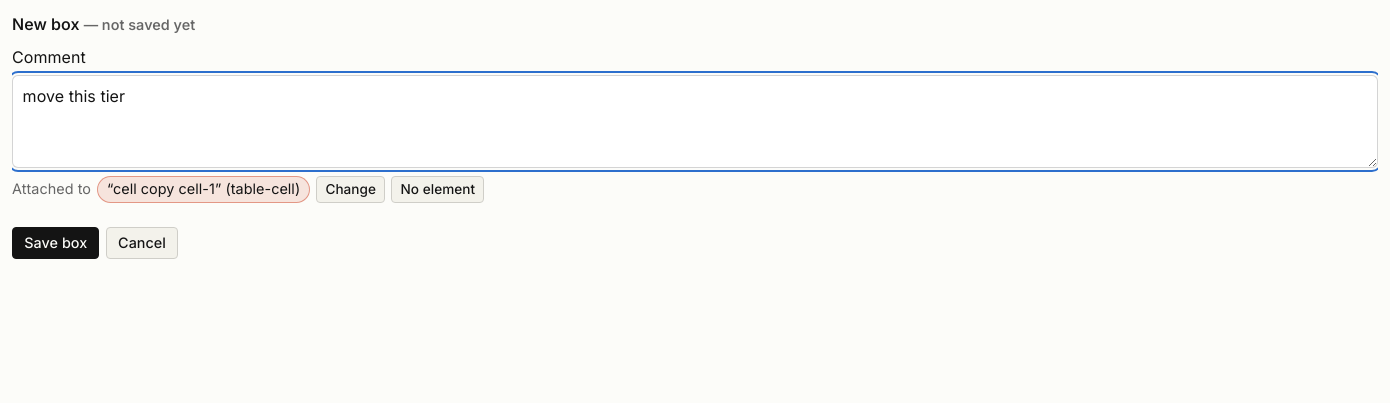
Test: a box or circle attached to several elements (D125) › ticks add elements, the first stays main, and No element clears them
This screenshot has width=1390, height=403.
Step 1. Click the button "Change" → (351, 189), box [316, 176, 385, 203]
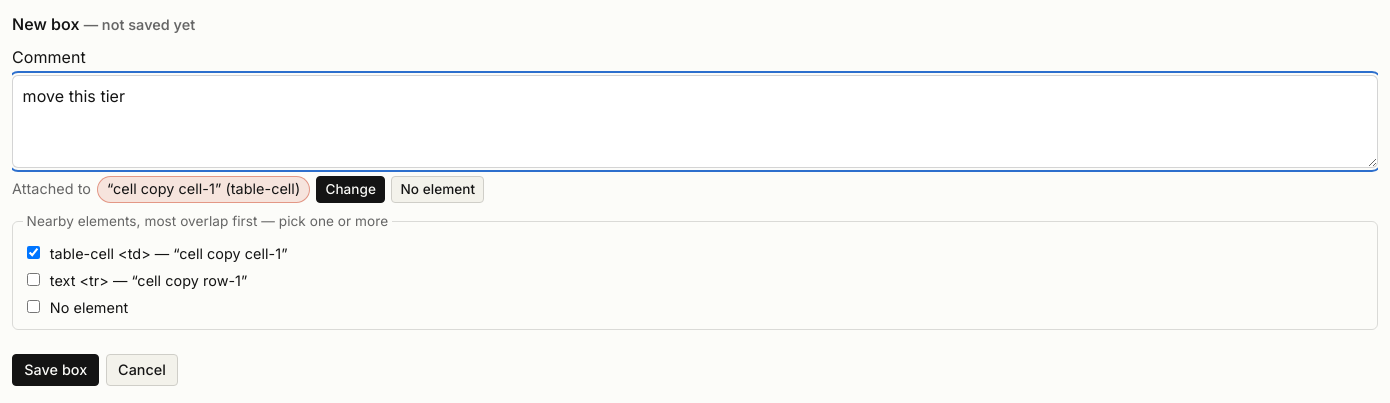
Check: the text "Nearby elements, most overlap first — pick one or more" is shown, box [23, 211, 392, 232]
Check: the number of checkboxes is 3
Check: the checkbox labelled "table-cell <td> — “cell copy cell-1”" is checked, box [27, 246, 40, 258]
Step 2. Click the checkbox labelled "text <tr> — “cell copy row-1”" → (33, 279), box [27, 273, 40, 286]
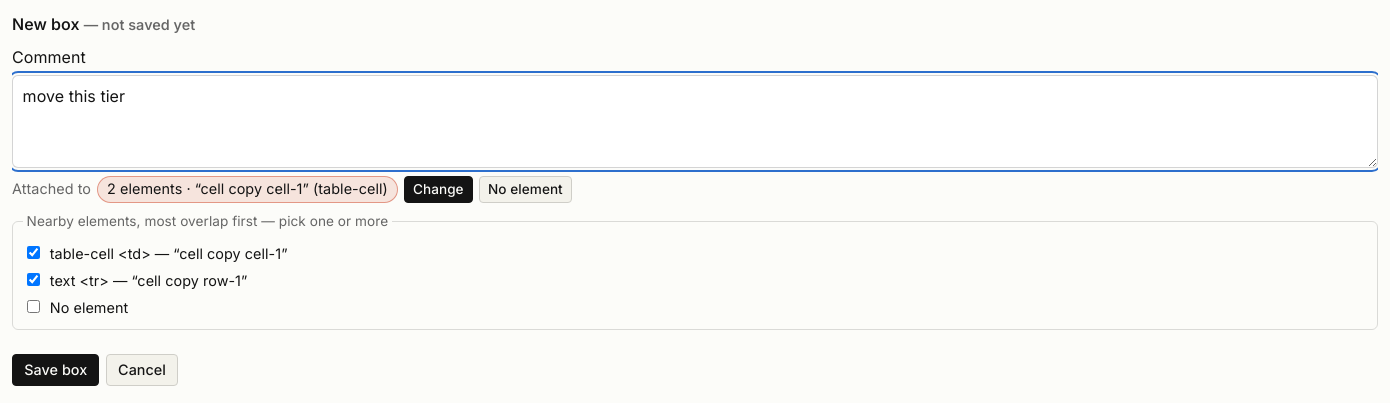
Check: the text with test id "draft-choice" shows "2 elements ·", box [107, 180, 388, 197]
# Unticking the main one promotes the next.
Step 3. Click the checkbox labelled "table-cell <td> — “cell copy cell-1”" → (33, 252), box [27, 246, 40, 258]
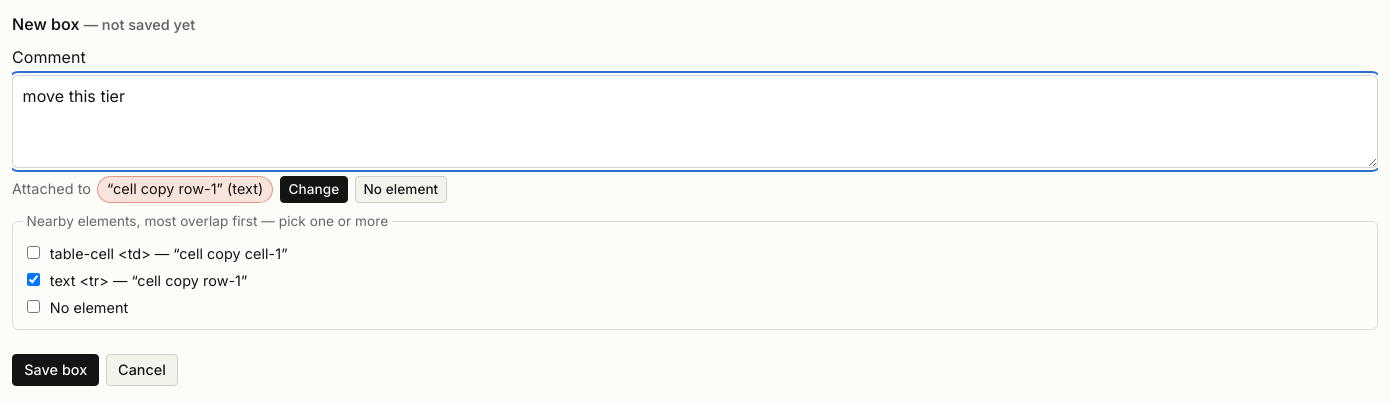
Check: the text with test id "draft-choice" no longer shows "elements ·", box [97, 176, 273, 203]
Step 4. Click the checkbox labelled "No element" → (33, 306), box [27, 300, 40, 313]
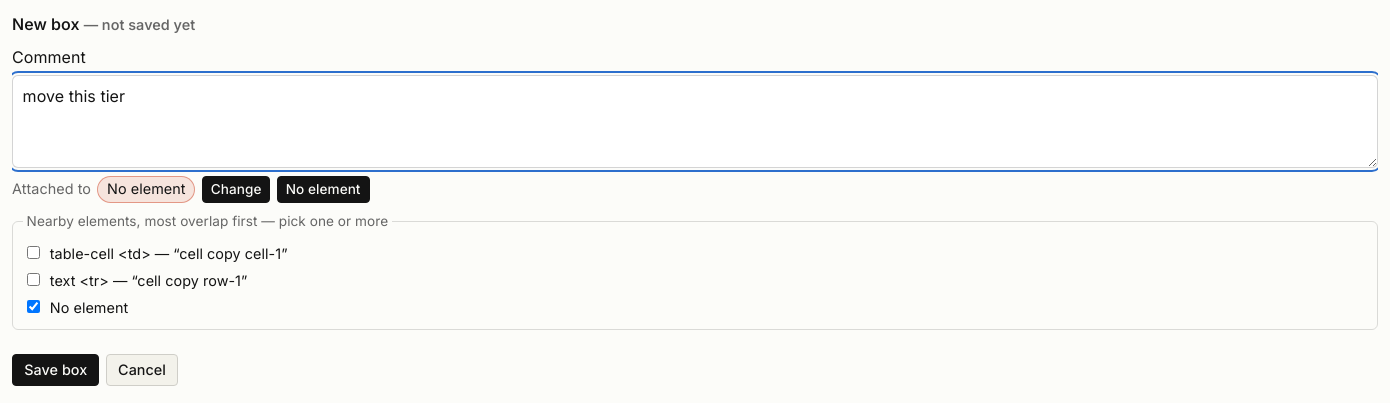
Check: the text with test id "draft-choice" reads "No element", box [107, 180, 186, 197]
